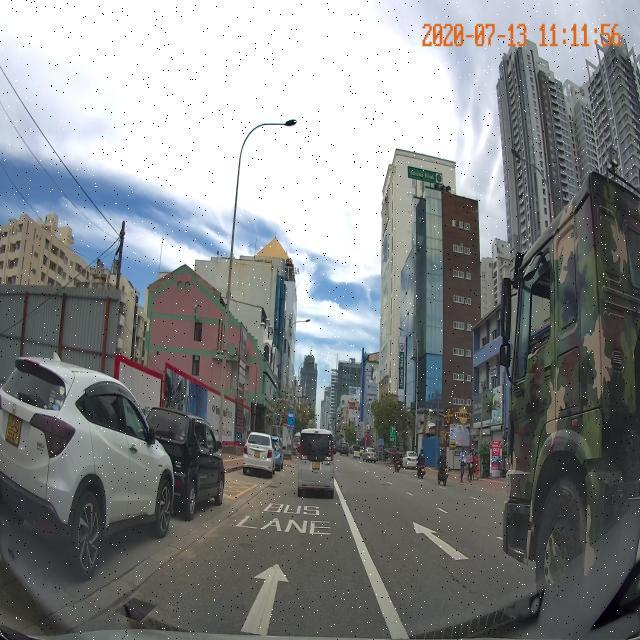forward: (352, 511, 505, 592)
